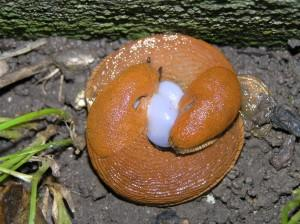slug: (82, 14, 240, 208)
